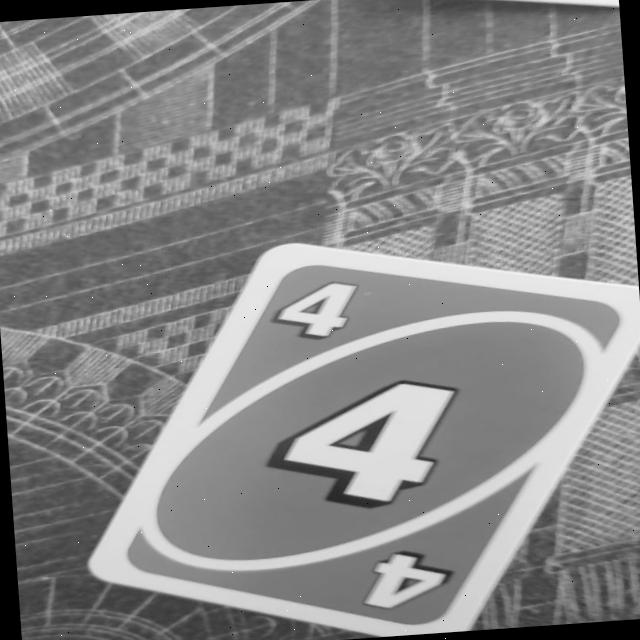card_4: (62, 217, 640, 640)
